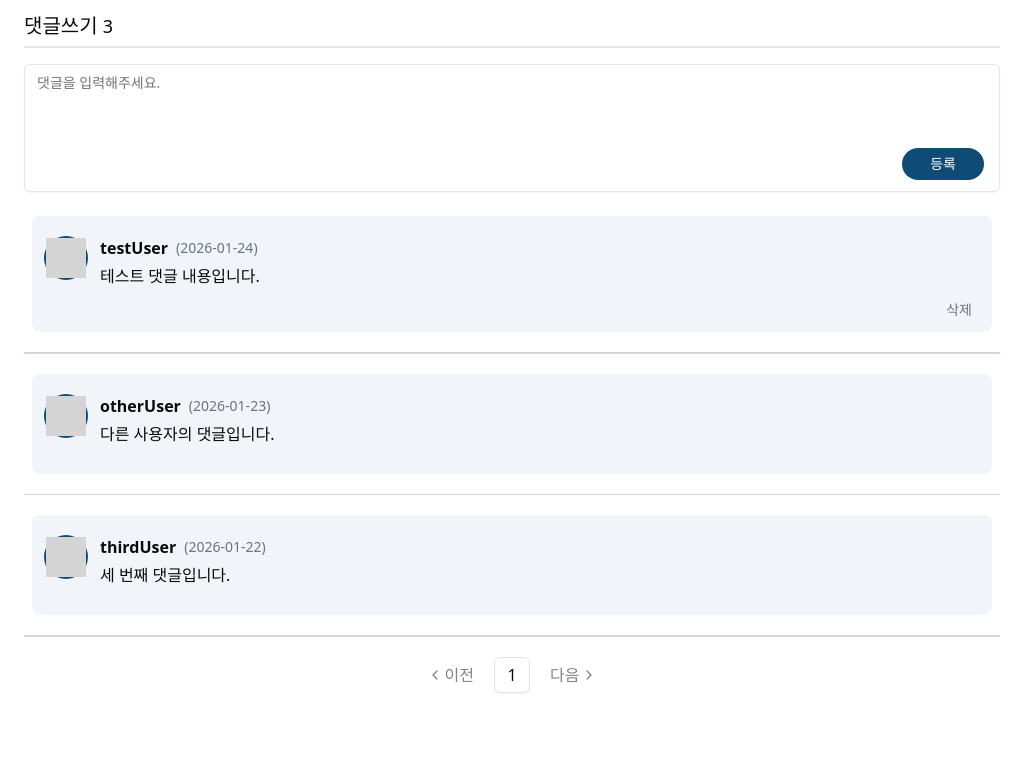
src/features/review/comments/ui/Comments.tsx › 통합 테스트 › 댓글 등록 › 댓글이 3개인 상태에서 댓글을 추가하면 즉시 4개가 표시된다.
Check: the heading "댓글쓰기 3" is shown, box x1=24 y1=12 x2=1000 y2=48
In the text box with placeholder "댓글을 입력해주세요.": (512, 128) x1=24 y1=64 x2=1000 y2=192, type "테스트 컨텐츠"
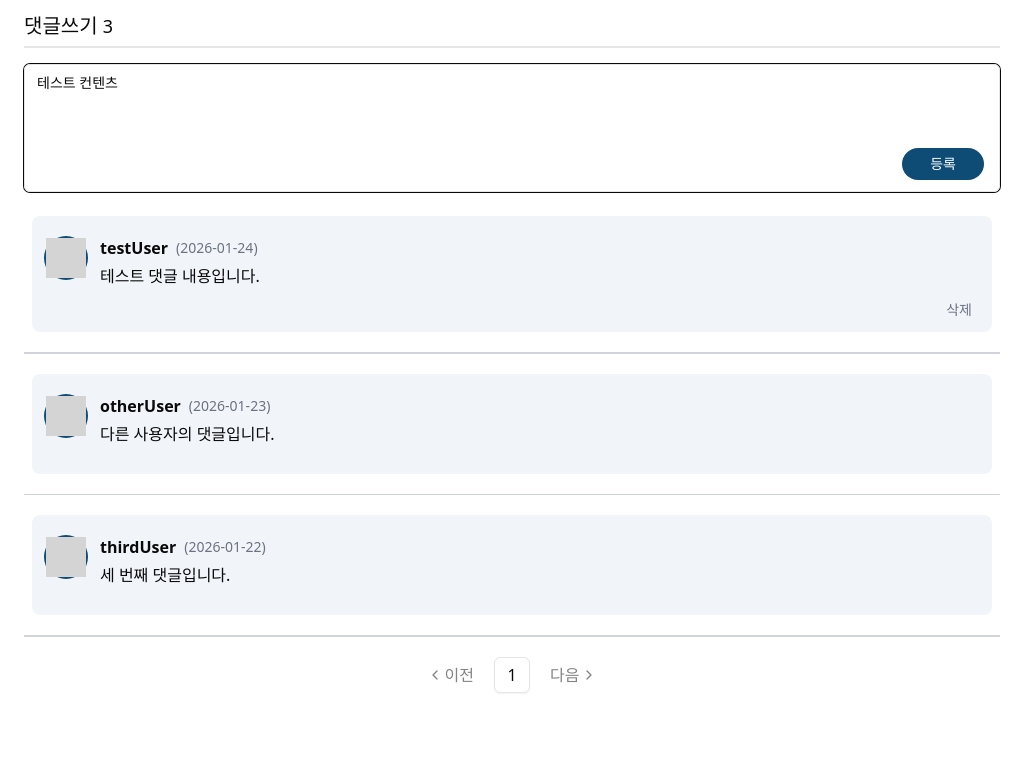
Click the button with aria-label "댓글 등록": (943, 164) x1=902 y1=148 x2=984 y2=180
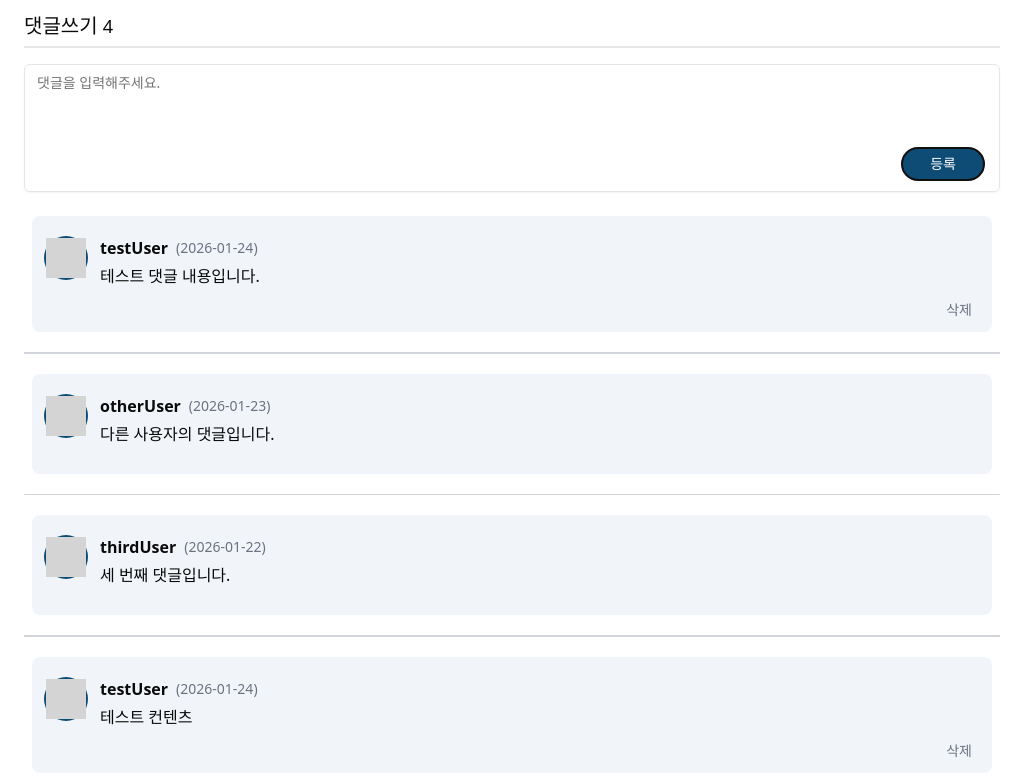
Check: the heading "댓글쓰기 4" is shown, box x1=24 y1=12 x2=1000 y2=48
Check: the text "테스트 컨텐츠" is shown, box x1=100 y1=706 x2=192 y2=728
